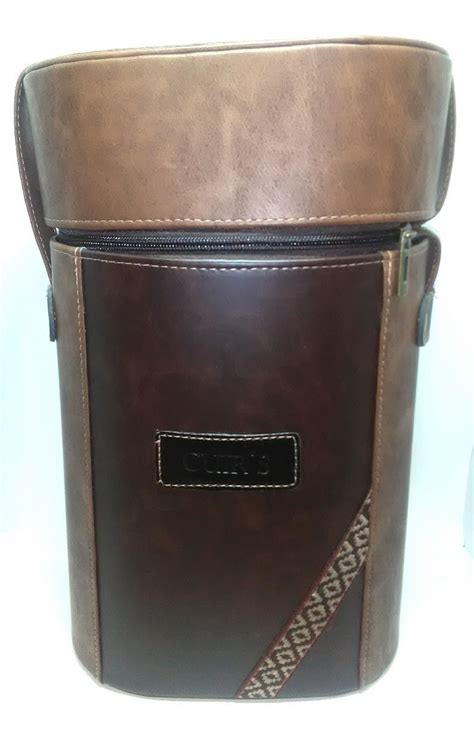cuero: (12, 37, 452, 700)
